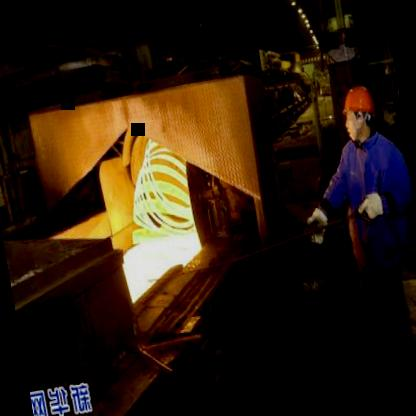helmet: (334, 80, 380, 144)
